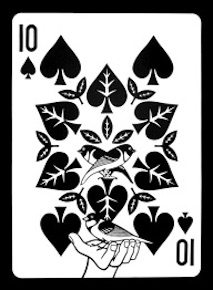TenOfSpades: (7, 4, 204, 282)
